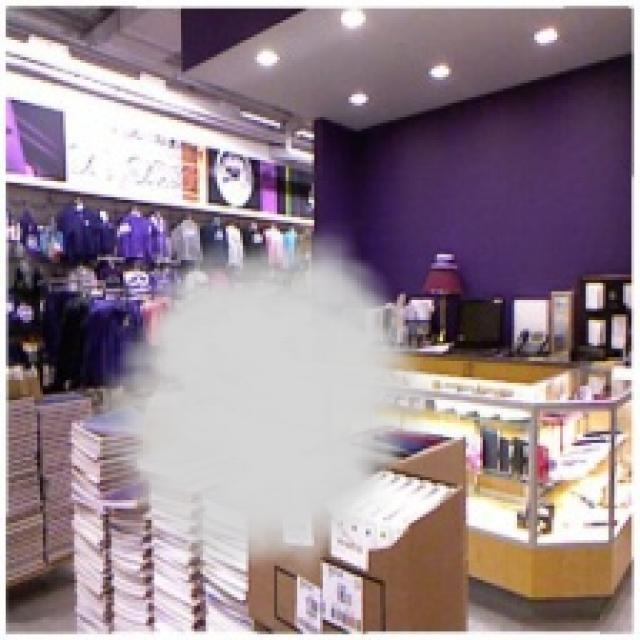Smoke: (80, 217, 446, 580)
